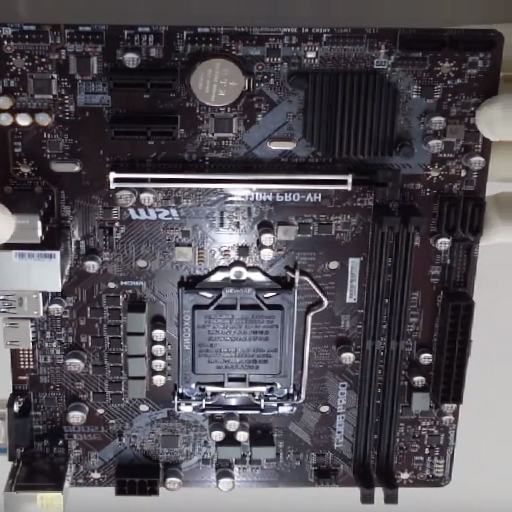CPU: (173, 265, 301, 416)
GPU: (111, 168, 398, 202)
MOTHERBOARD: (9, 27, 505, 488)
RAM: (356, 204, 424, 503)
